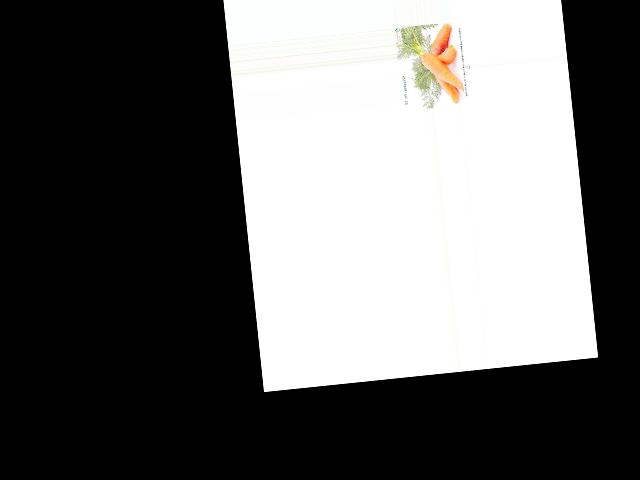carrot: (425, 23, 454, 57)
